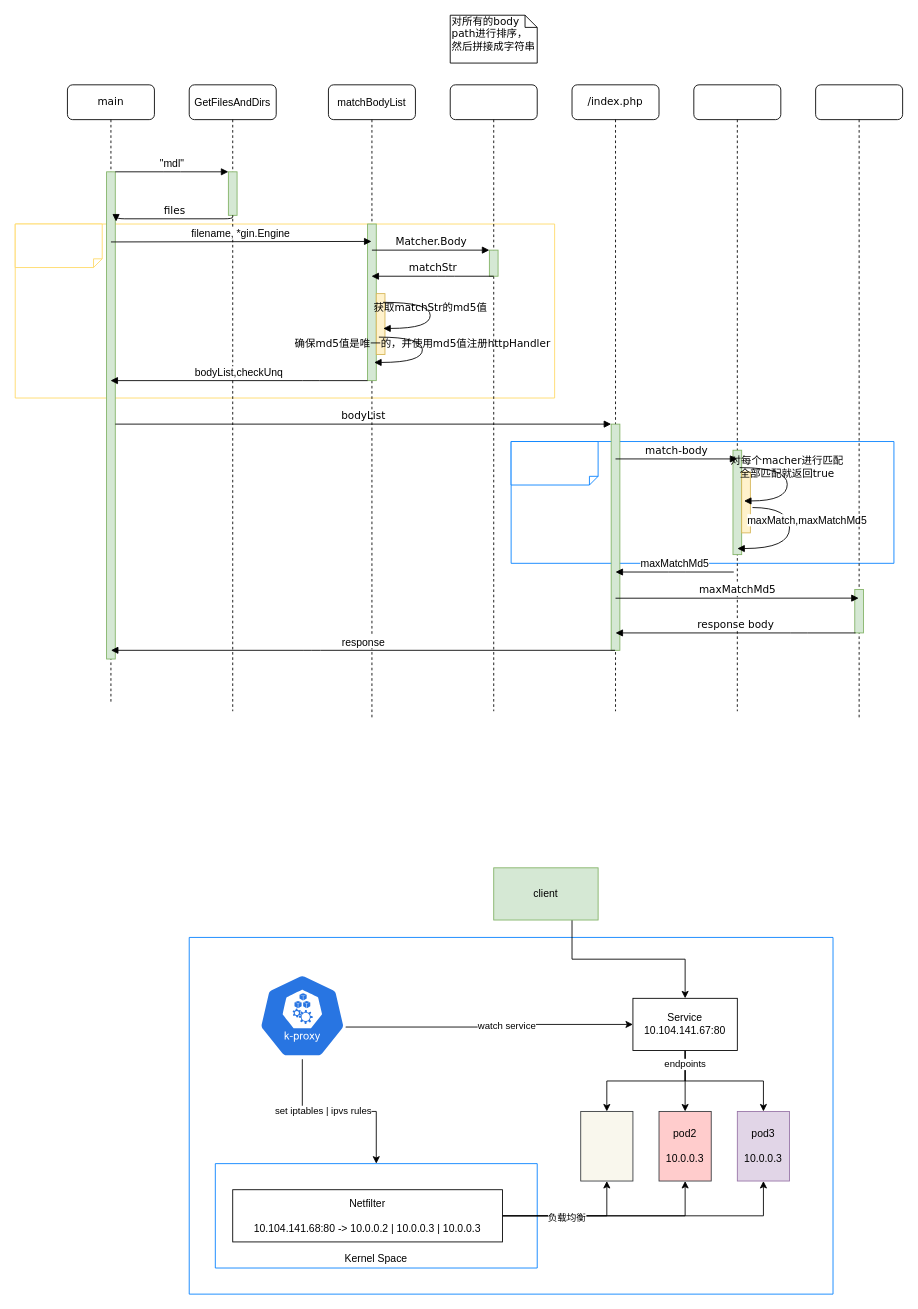
Image size: 918x1309. Some labels were removed from this diagram. Each missing label, with the box of its shape:
for loop: len(bodyList) times: (510, 441, 598, 485)
for loop: len(files) times: (14, 223, 102, 268)
getMatchStr: (449, 84, 537, 711)
httpReq: (815, 84, 903, 720)
maxMatch: (693, 84, 781, 711)
pod1 10.0.0.2: (580, 1111, 633, 1181)
